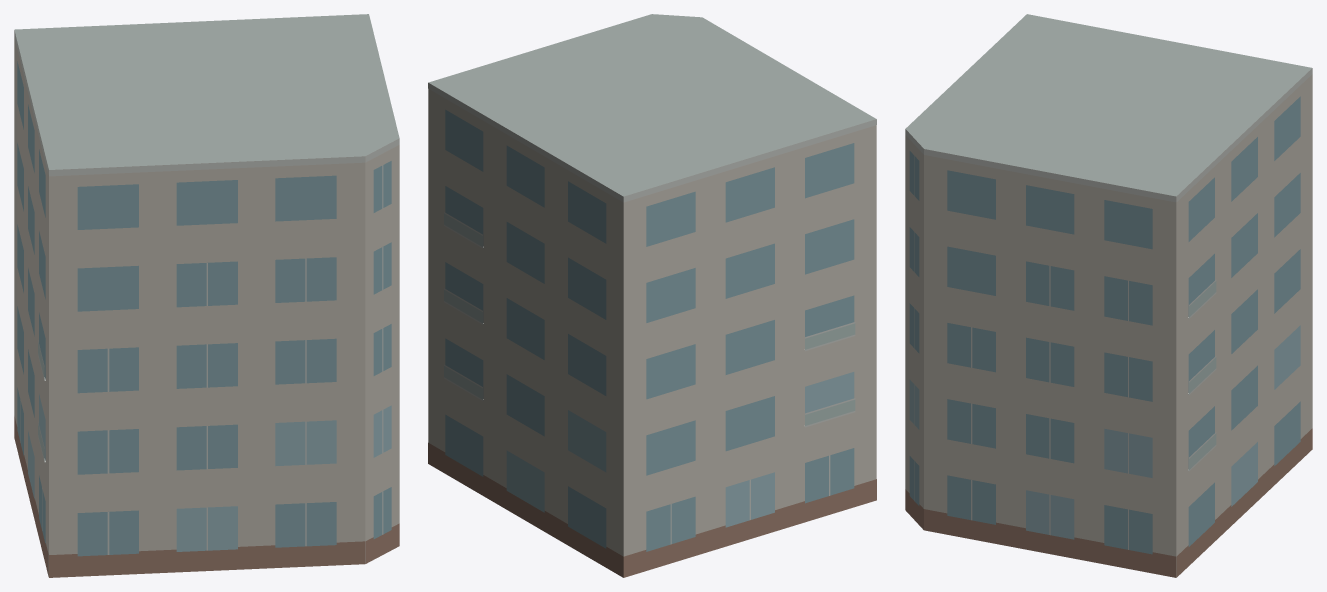
File: survey-upis-32533162.glb
3 renders of one model, left to right at view 1: azimuth 30°, elevation 25°; view 2: azimuth 150°, elevation 25°; view 3: azimuth 270°, elevation 25°, orthographic. The views are drawn at different scales.
Parts seen in each view (by area): view 1: survey-upis-32533162.tmp; view 2: survey-upis-32533162.tmp; view 3: survey-upis-32533162.tmp.
Part boxes in pixels (x1,y1,x2,y2): survey-upis-32533162.tmp: (14,14,399,577); survey-upis-32533162.tmp: (428,14,876,577); survey-upis-32533162.tmp: (905,14,1312,577).
Bounding box in the file's own units: 16.02 × 15.6 × 15.11.
